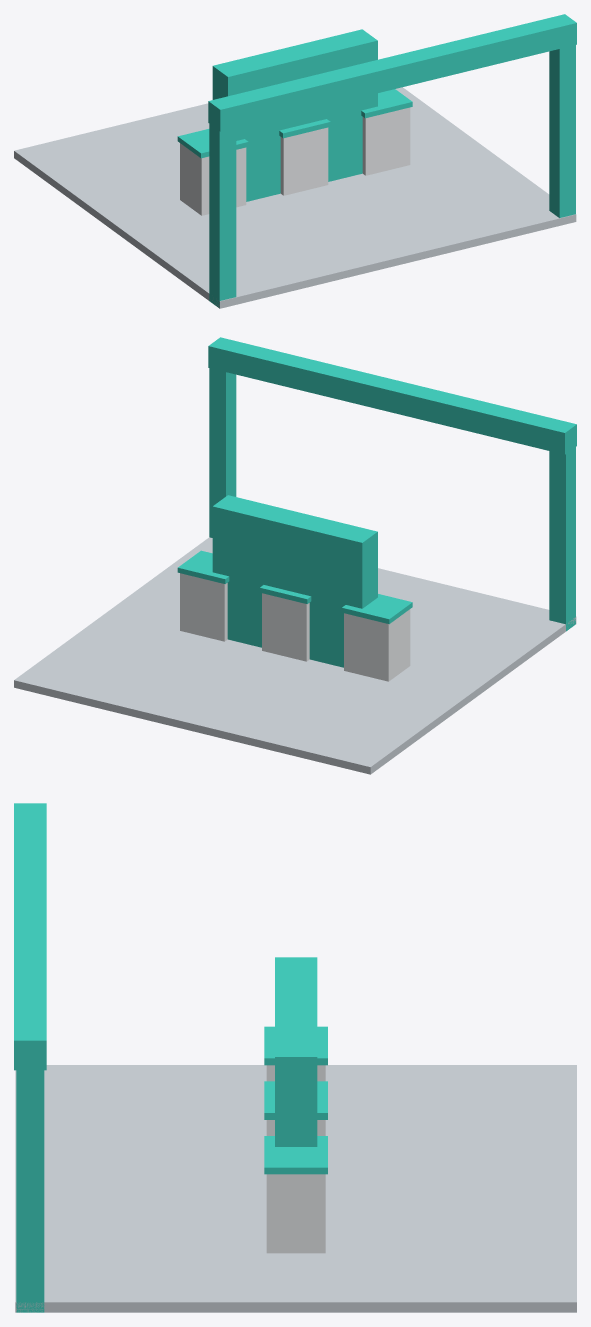
The picture shows the model from 3 angles, top to bottom: view 1: azimuth 30°, elevation 25°; view 2: azimuth 150°, elevation 25°; view 3: azimuth 270°, elevation 25°; orthographic projection. The views are drawn at different scales.
Visible parts, largest first — view 1: Exhibition Booth Concept; view 2: Exhibition Booth Concept; view 3: Exhibition Booth Concept.
Boxes of the visible parts, x1=… form: Exhibition Booth Concept: x1=14, y1=14, x2=576, y2=308; Exhibition Booth Concept: x1=14, y1=337, x2=576, y2=774; Exhibition Booth Concept: x1=14, y1=803, x2=576, y2=1312.
Size of the model in its own units: 6 by 3.2 by 6.02.
